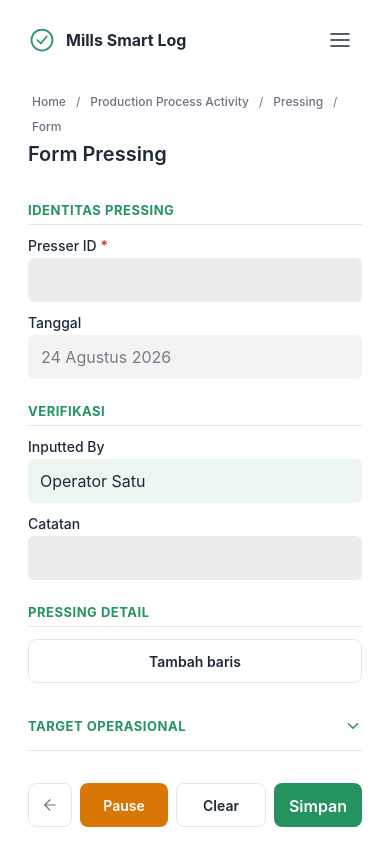
Test case: FormPressingView › shows inline error and does not save when Presser ID is empty on Simpan
The width and height of the screenshot is (390, 844).
Click the button with test id "save-button": [318, 805] box 274,783 -> 362,827
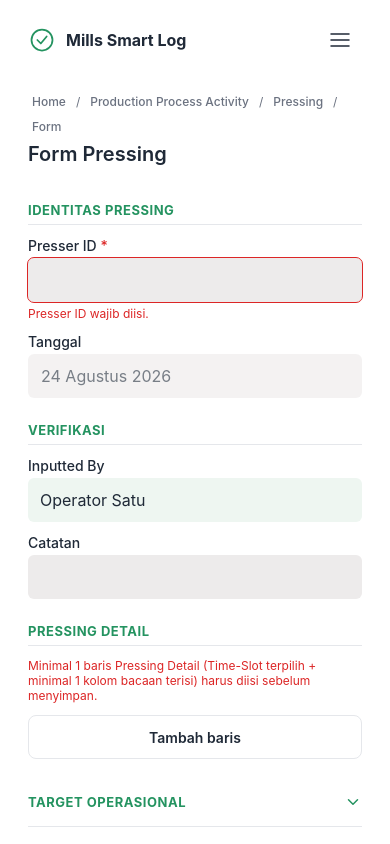
Result: the text "Presser ID wajib diisi" is shown at 28,306 -> 149,321
